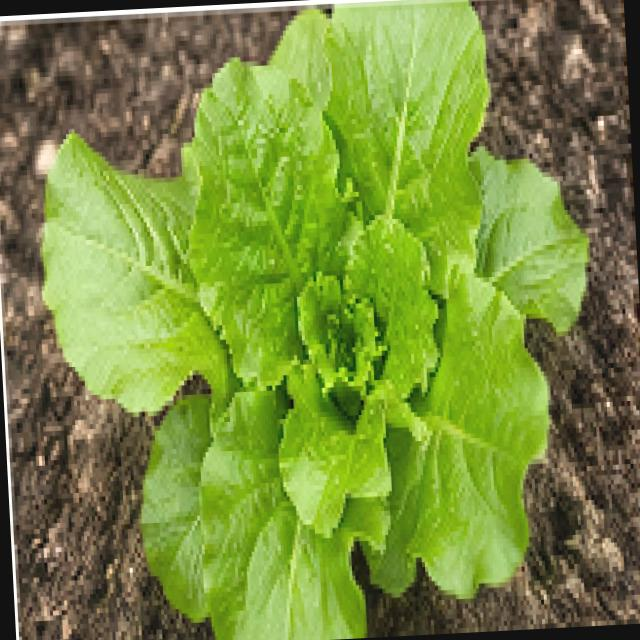inmadura: (45, 2, 583, 640)
